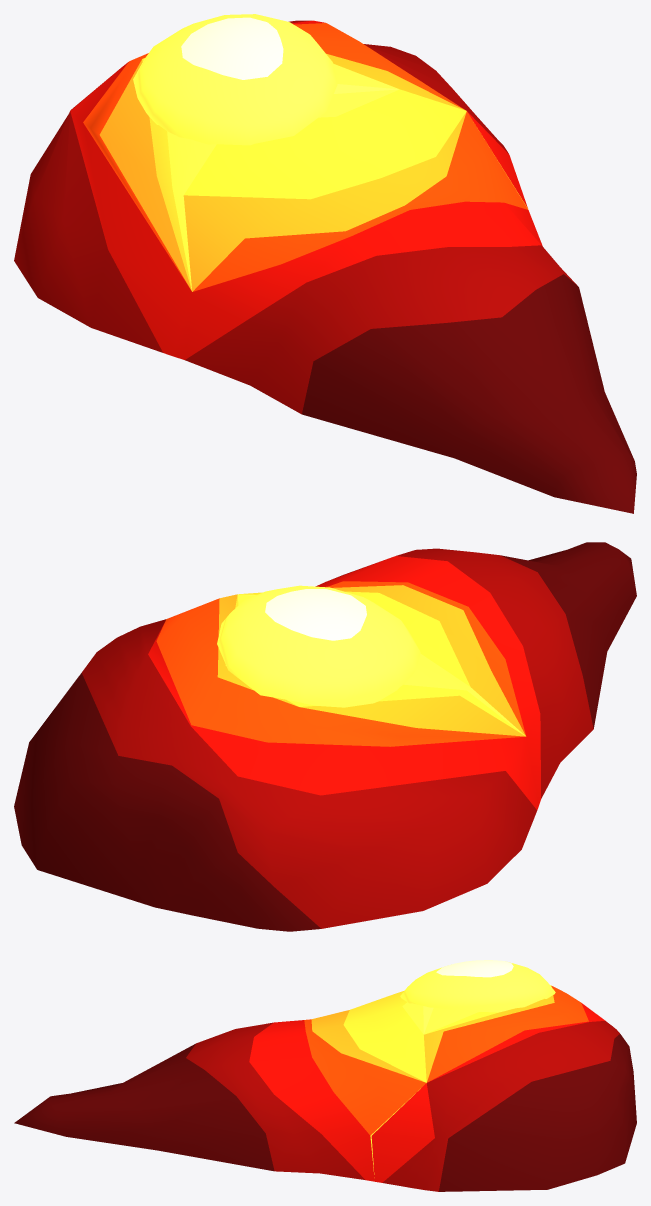
The model's file is shot_dflame_126.glb.
The picture shows the model from 3 angles, top to bottom: view 1: azimuth 30°, elevation 25°; view 2: azimuth 150°, elevation 25°; view 3: azimuth 270°, elevation 25°; orthographic projection. The views are drawn at different scales.
Parts seen in each view (by area): view 1: shot_dflame_126_fire, shot_dflame_126_core; view 2: shot_dflame_126_fire, shot_dflame_126_core; view 3: shot_dflame_126_fire, shot_dflame_126_core.
Part boxes in pixels (bbox=[...]): shot_dflame_126_fire: bbox=[14, 20, 636, 513]; shot_dflame_126_core: bbox=[133, 14, 337, 145]; shot_dflame_126_fire: bbox=[14, 542, 636, 931]; shot_dflame_126_core: bbox=[217, 585, 420, 707]; shot_dflame_126_fire: bbox=[14, 985, 636, 1191]; shot_dflame_126_core: bbox=[400, 960, 555, 1012].
Size of the model in its own units: 5.87 by 2.86 by 11.
